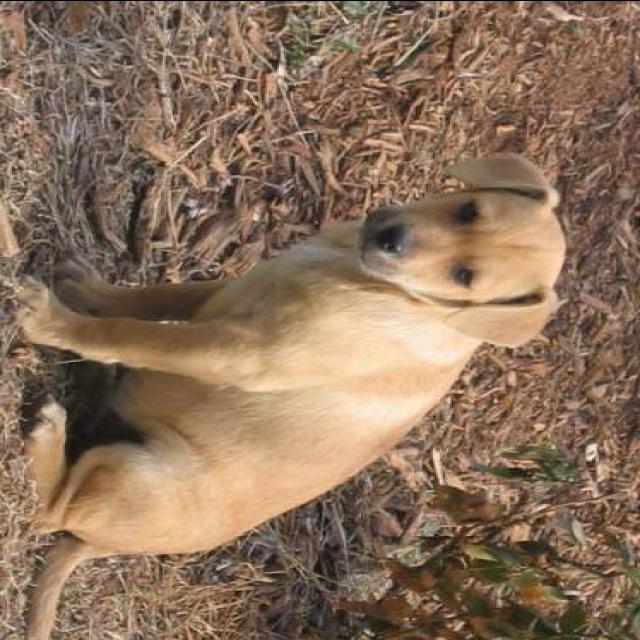dog: (0, 146, 576, 638)
